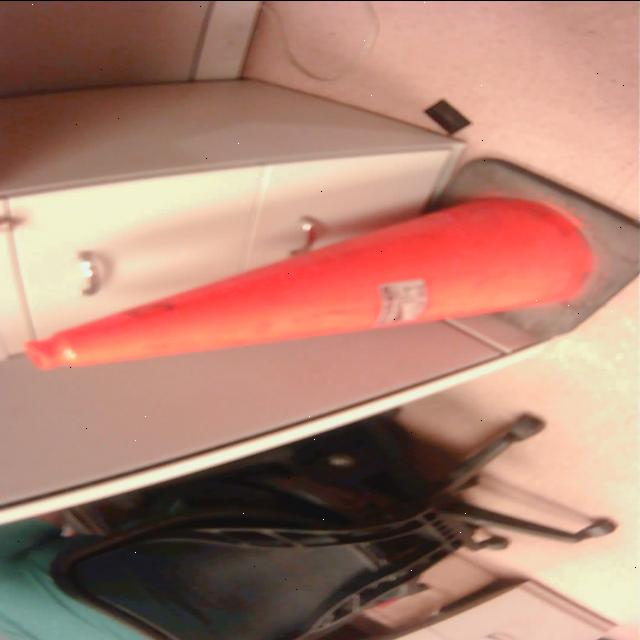traffic cone: (17, 151, 640, 375)
